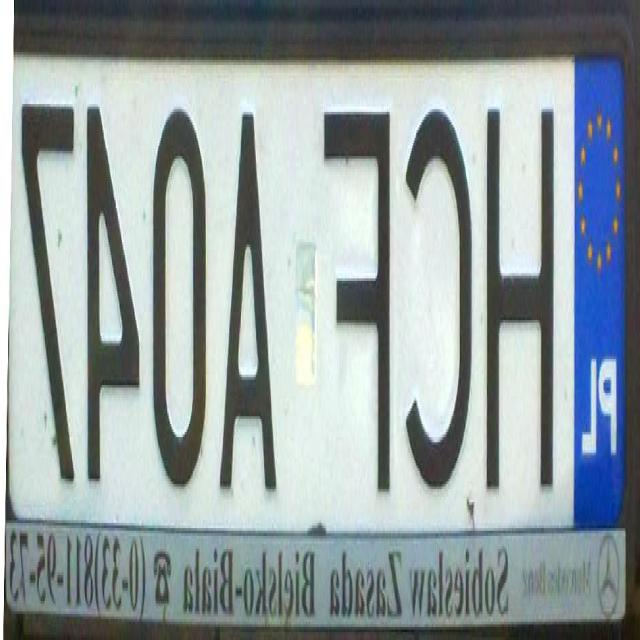pl_license_plate: (10, 57, 626, 523)
